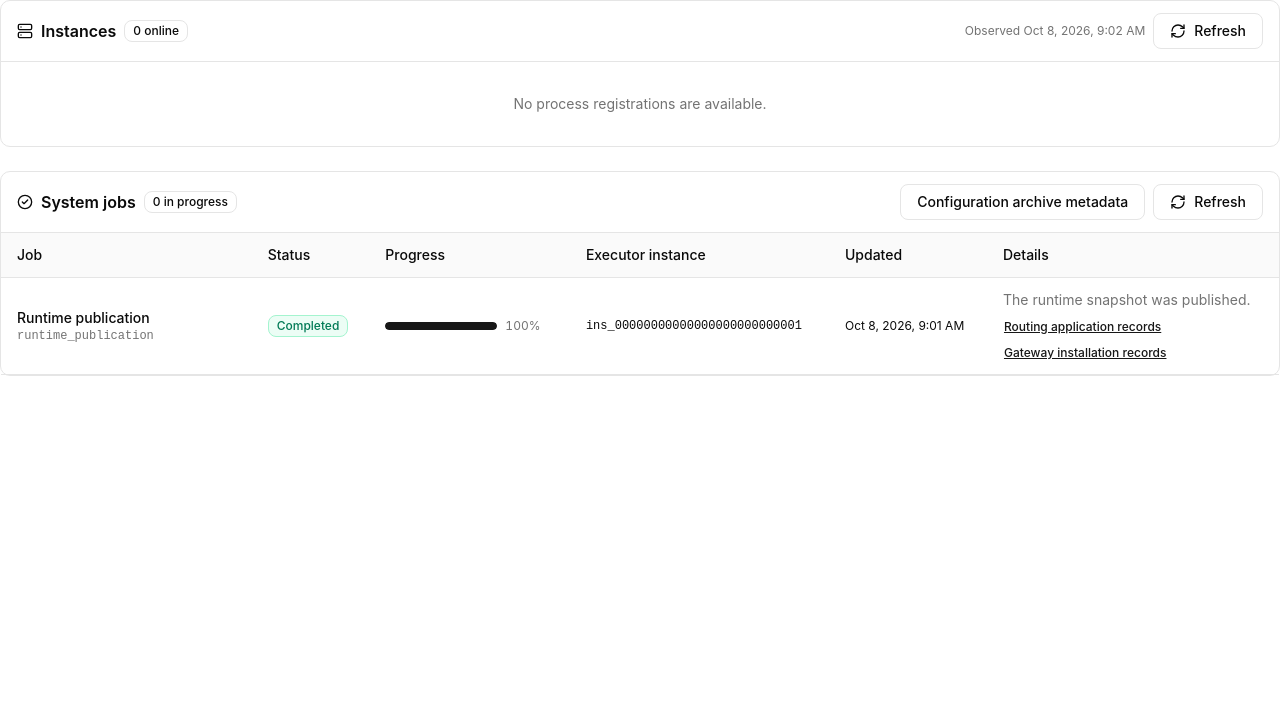
it: routing records in the existing System task details › renders server-confirmed current matching true separately
Click the button "Routing application records".
click(1083, 327)  # box [1003,318,1162,336]
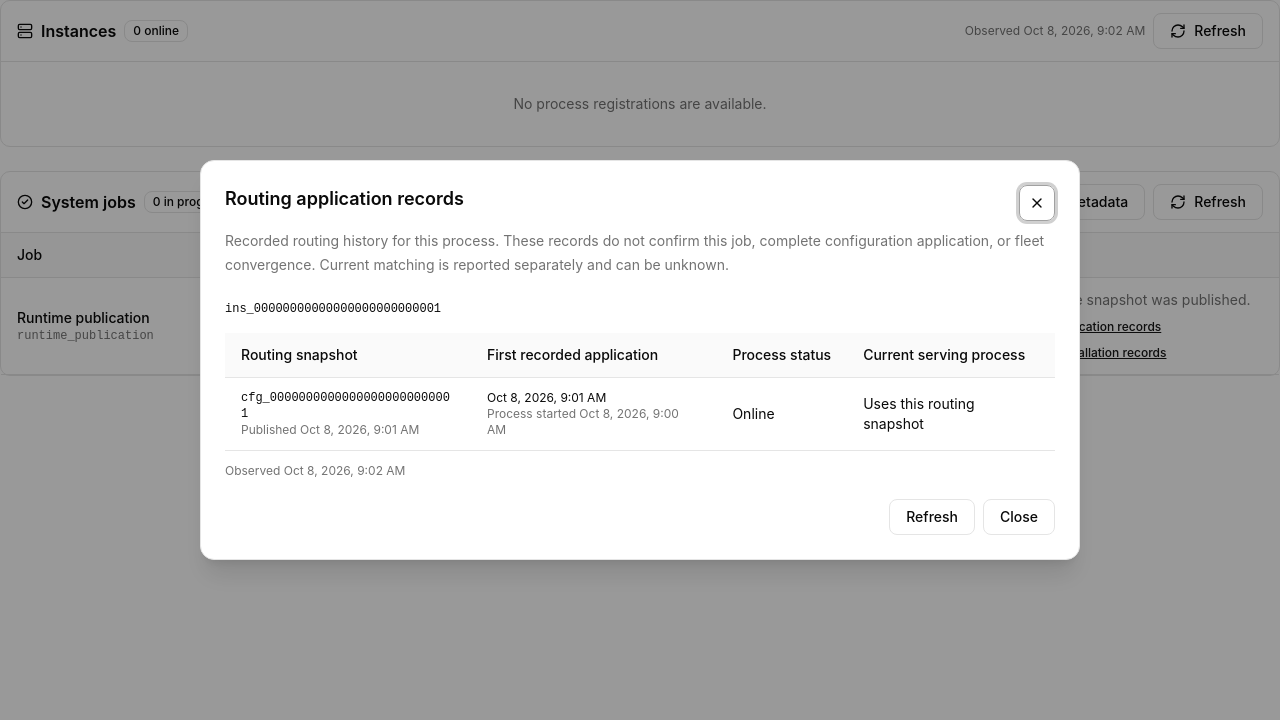
Expected: the dialog shows "Uses this routing snapshot", [863,395,975,432]
